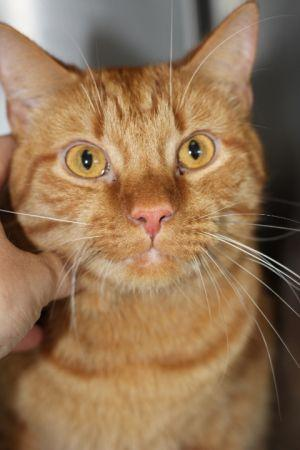bengal: (1, 1, 287, 302)
